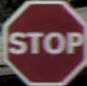Stop: (3, 3, 81, 76)
